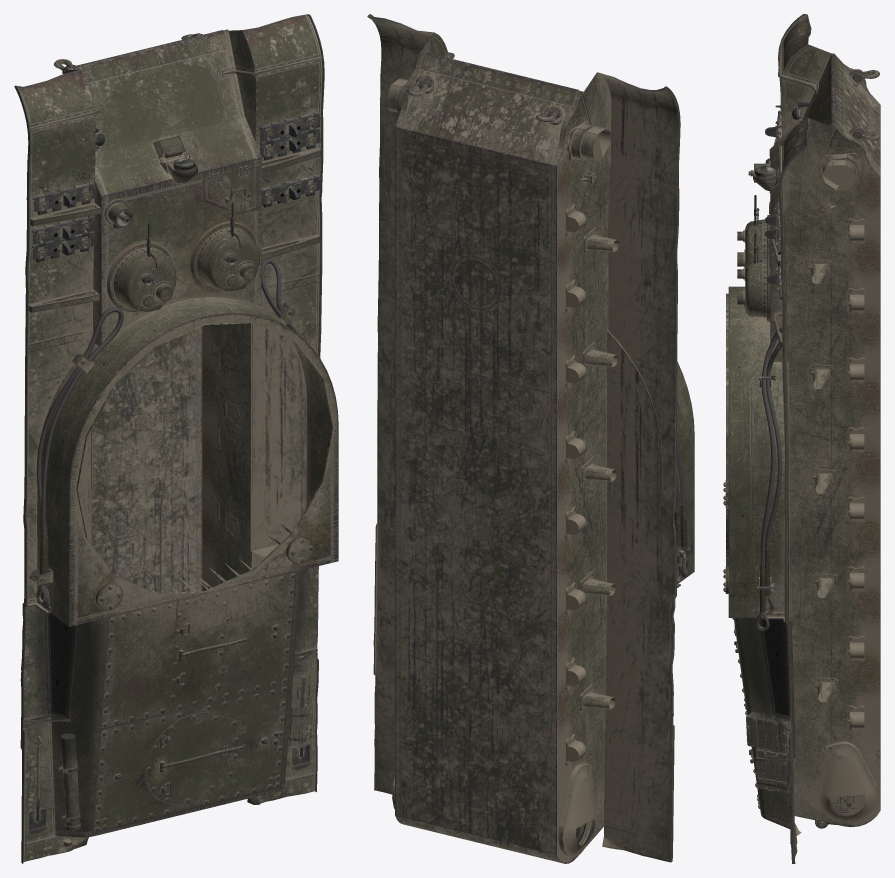
Rendered from Hull.glb.
3 views of the same model, side by side, from view 1: azimuth 30°, elevation 25°; view 2: azimuth 150°, elevation 25°; view 3: azimuth 270°, elevation 25° (orthographic). The views are drawn at different scales.
Parts seen in each view (by area): view 1: set_0_group_0; view 2: set_0_group_0; view 3: set_0_group_0.
Boxes of the visible parts, left/top/right/bottom form: set_0_group_0: left=14, top=14, right=338, bottom=863; set_0_group_0: left=367, top=14, right=694, bottom=863; set_0_group_0: left=723, top=14, right=880, bottom=863.
Size of the model in its own units: 3.48 by 8.58 by 1.71.
Materials: 1 (1 with a texture image).
